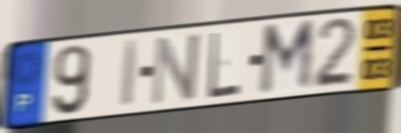2: (314, 16, 359, 91)
9: (51, 43, 93, 118)
I: (118, 37, 142, 110)
L: (206, 30, 242, 102)
M: (257, 17, 317, 99)
N: (148, 30, 203, 109)
